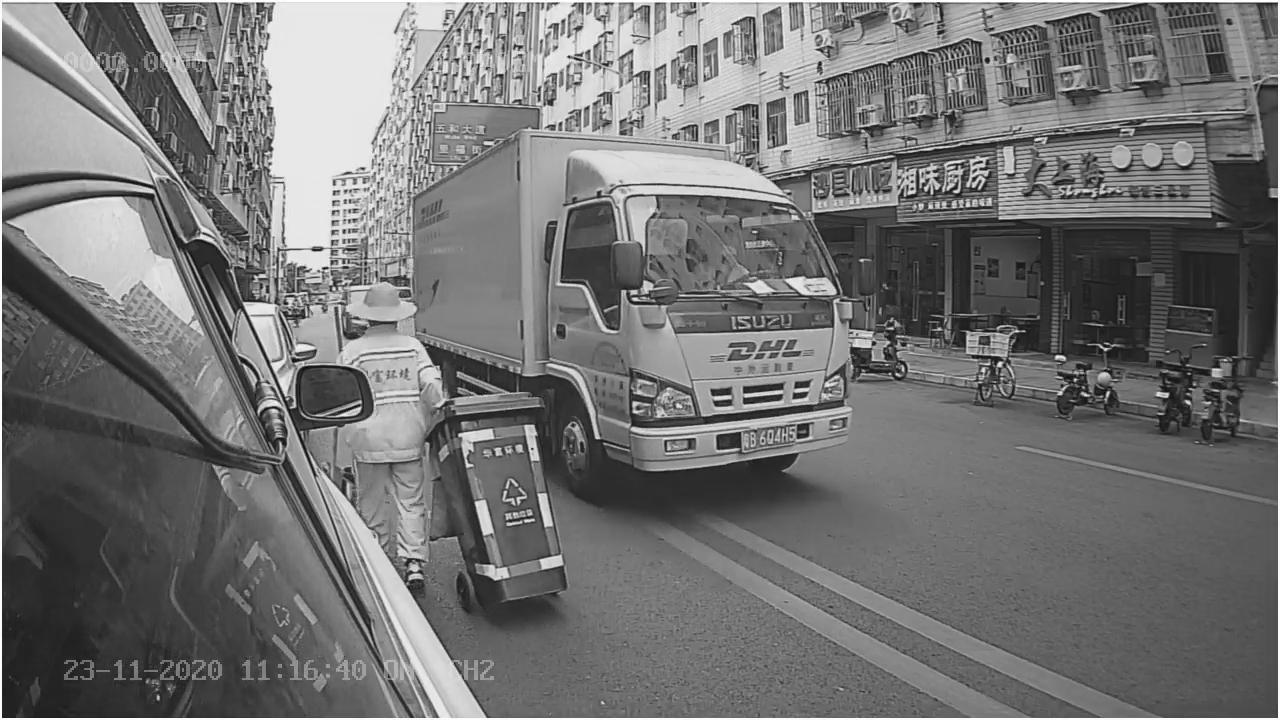person: (336, 276, 442, 386)
